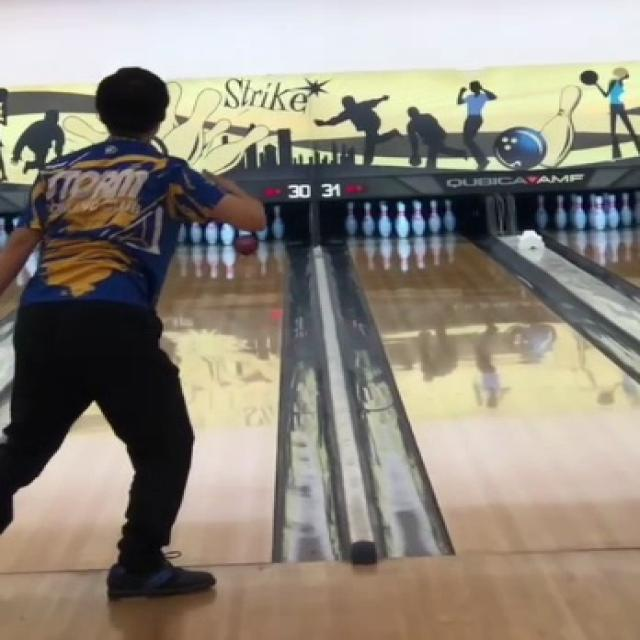alley: (160, 242, 285, 565), (0, 405, 131, 571)
balls: (234, 232, 256, 255)
bottle: (186, 223, 239, 245), (259, 208, 281, 240)
